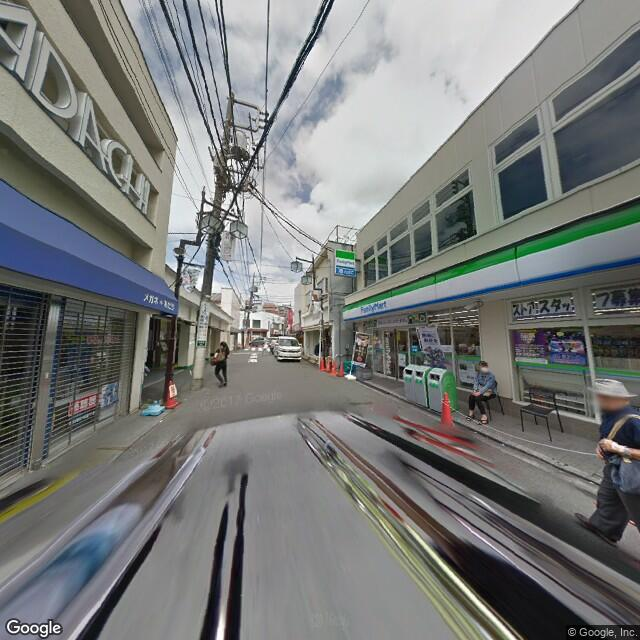family_mart: (342, 199, 639, 325), (357, 295, 393, 317), (335, 248, 355, 277)
